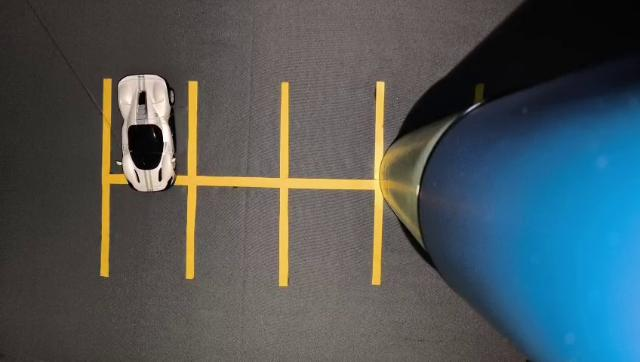toy_car: (108, 65, 196, 209)
